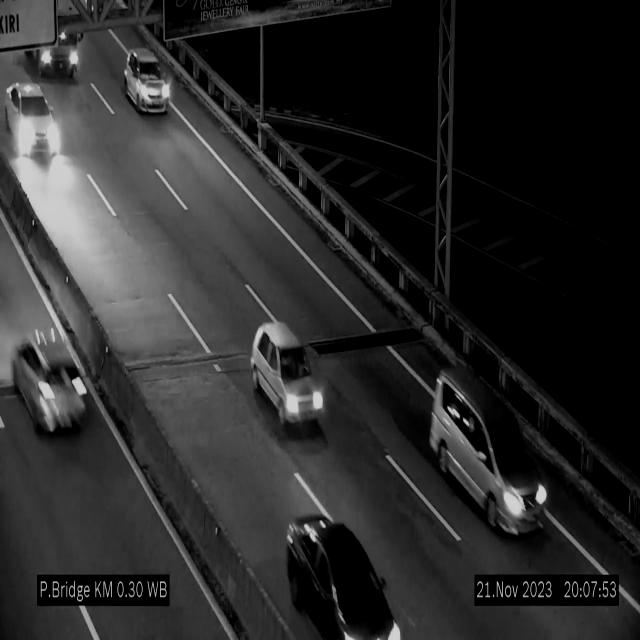Car: (428, 363, 549, 533), (286, 512, 402, 640), (7, 307, 97, 449), (250, 322, 324, 434), (5, 82, 62, 164), (124, 48, 170, 114)
Truck: (29, 0, 85, 84)
